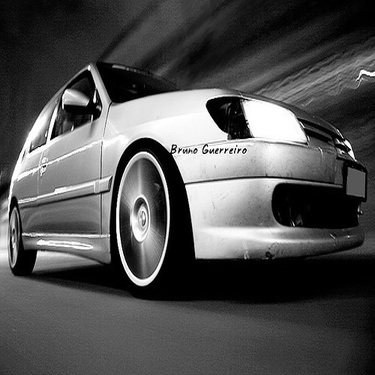car: (12, 38, 360, 289)
